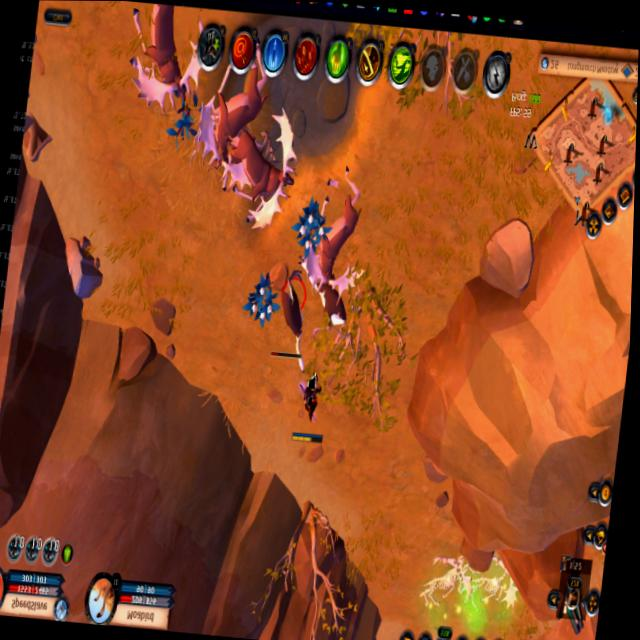hide: (288, 192, 334, 263), (242, 268, 282, 333)
mob: (181, 43, 275, 180), (117, 1, 215, 124), (296, 159, 370, 301), (215, 124, 300, 234), (307, 258, 363, 344)
ore: (266, 266, 319, 376)
red: (288, 367, 332, 448)
